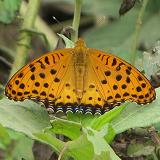Argyreus hyperbius: (2, 13, 158, 116)
butterfly: (4, 14, 160, 117)
